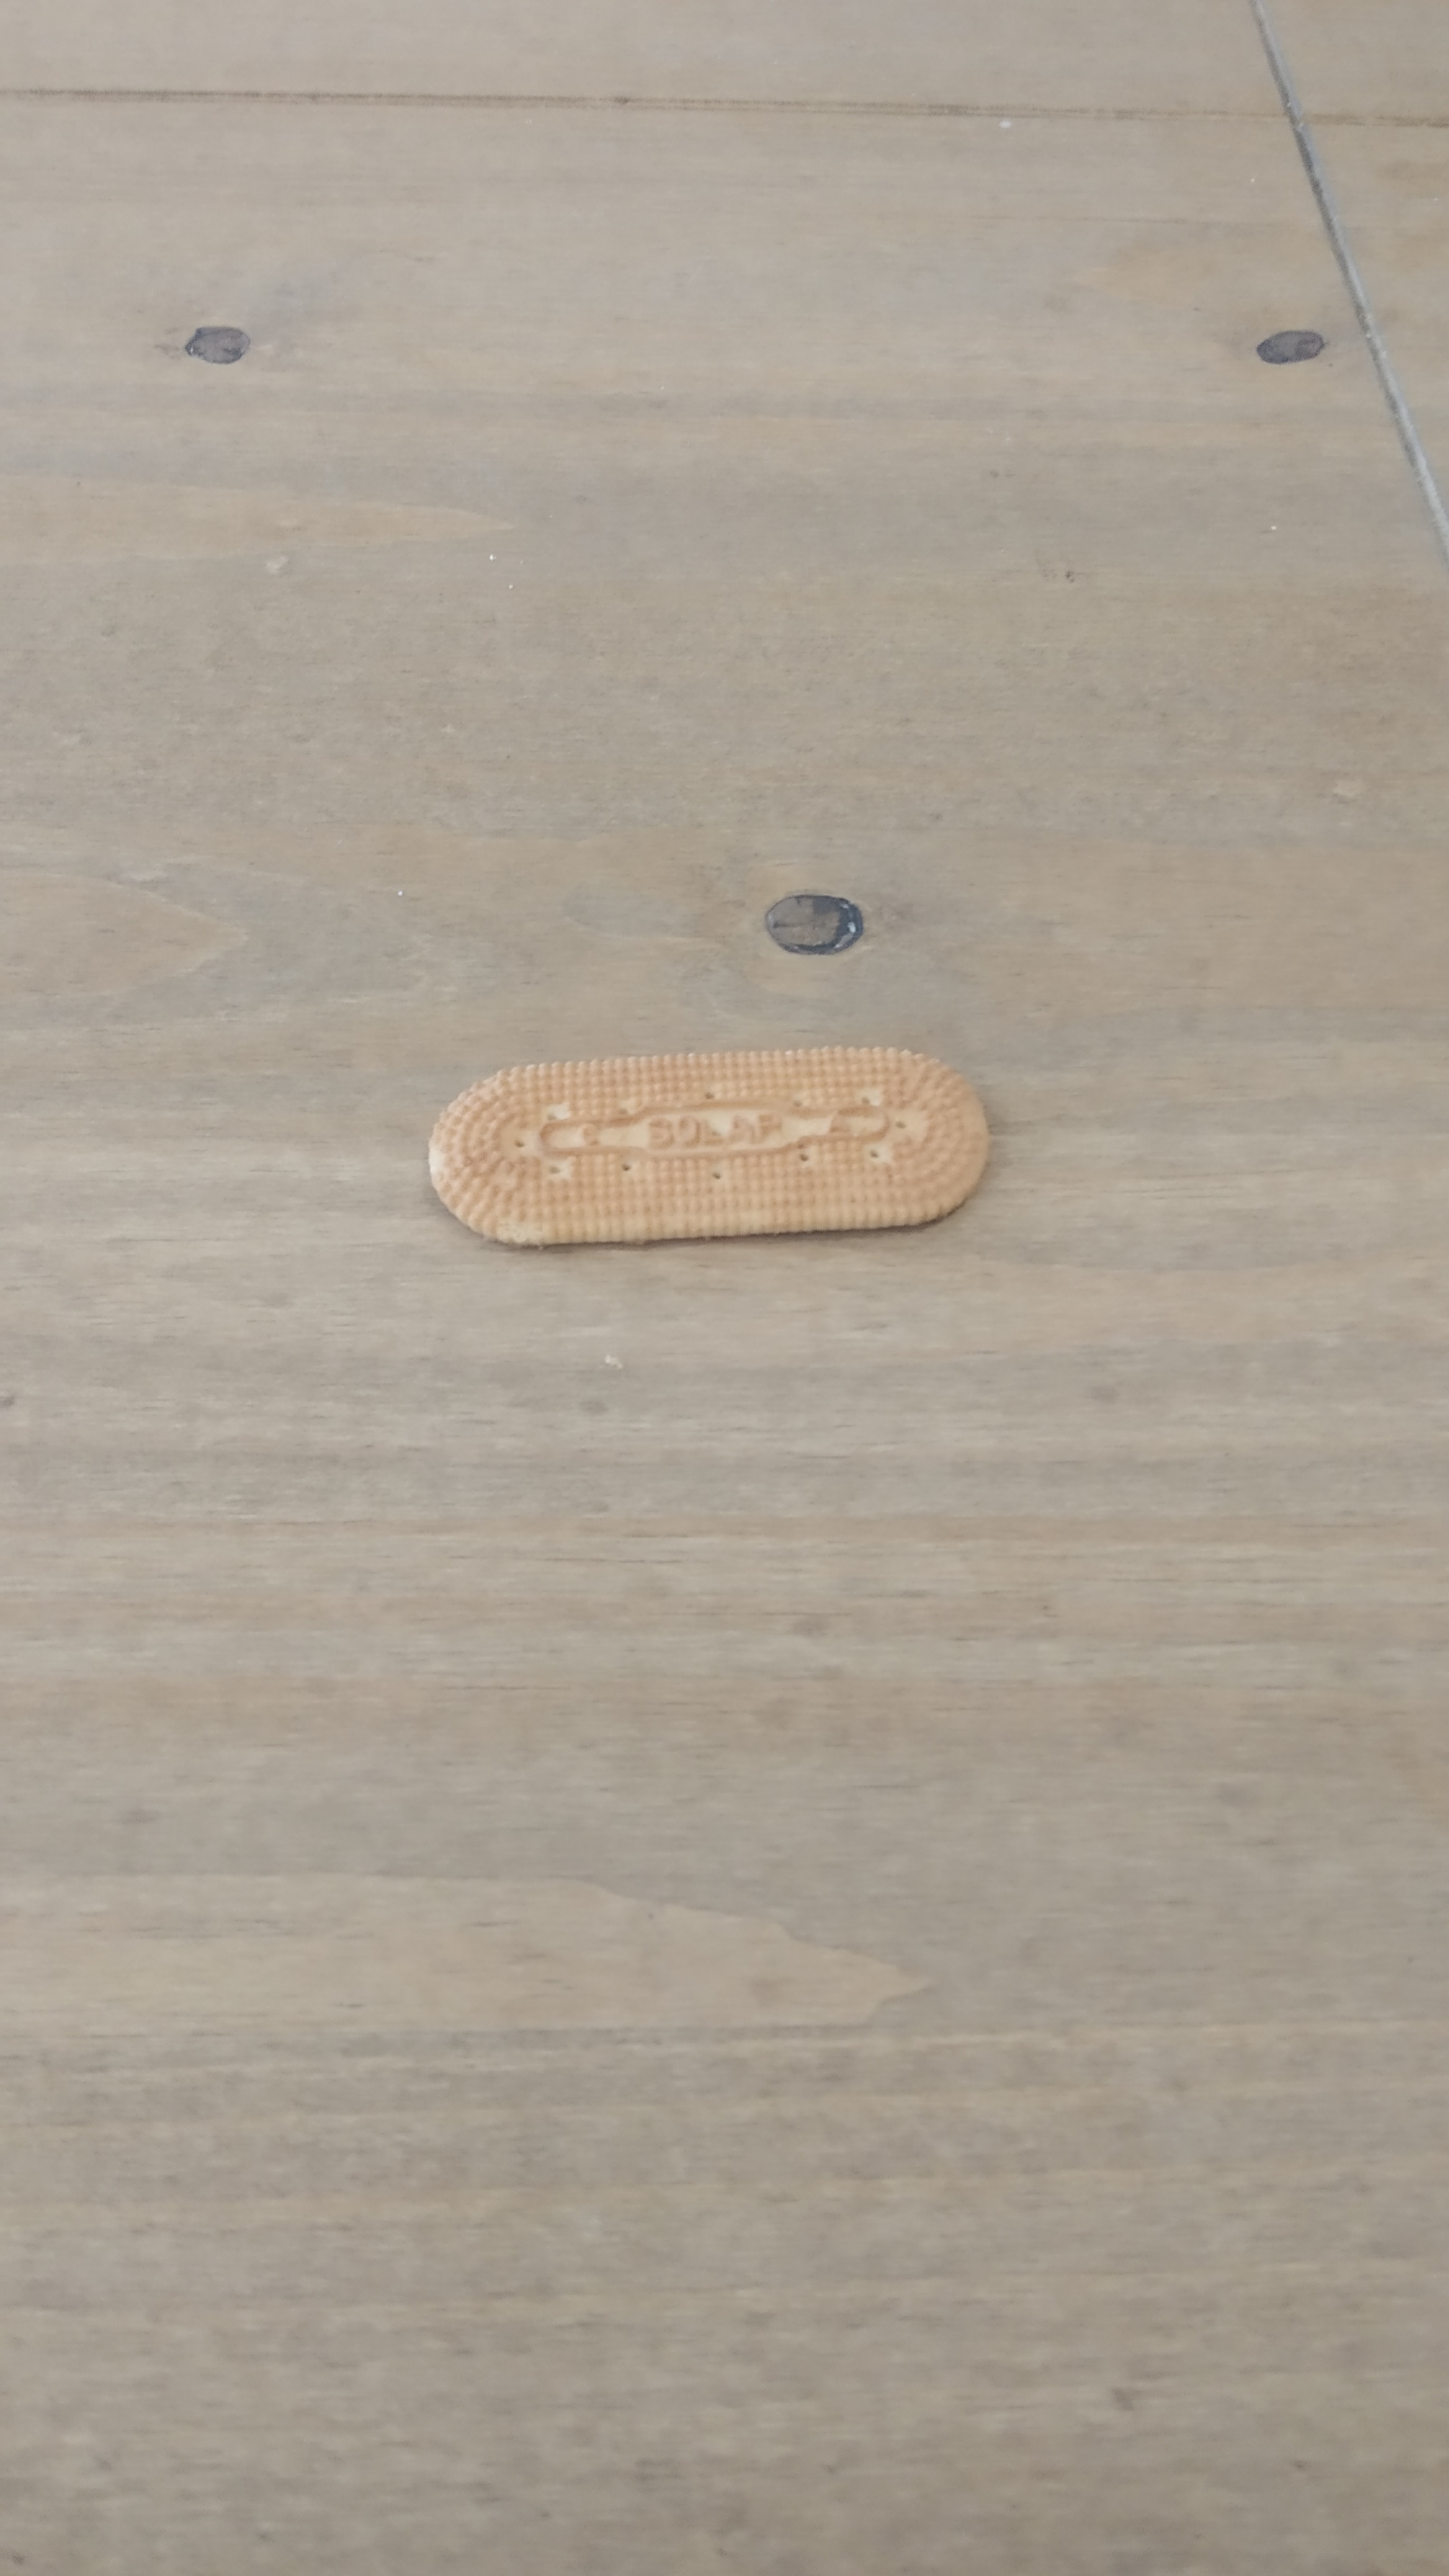solar: (426, 1044, 989, 1246)
